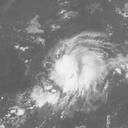cyclone: (46, 31, 111, 106)
